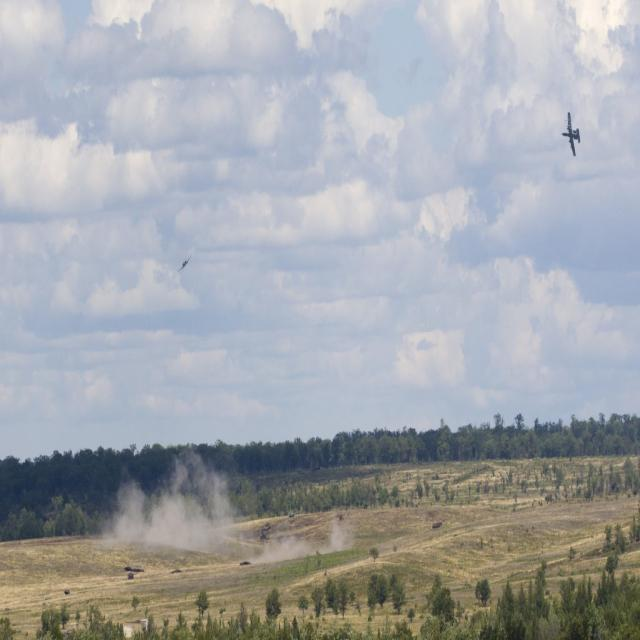MIL_Plane: (561, 112, 581, 156), (177, 254, 192, 273)
